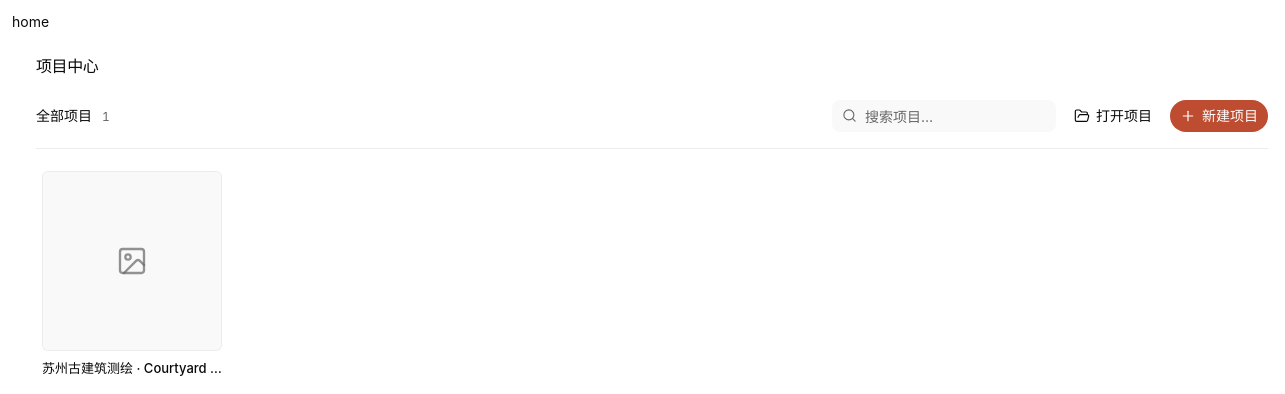
Test case: HomePage › retains complete long macOS project metadata in gallery descriptions
Expected: the text titled "苏州古建筑测绘 · Courtyard reconstruction final high quality 2026-10-28" is shown, [42,359,222,378]
Click the button "苏州古建筑测绘 · Courtyard reconstruction final high quality 2026-10-28": [132, 274] box [42,171,222,378]
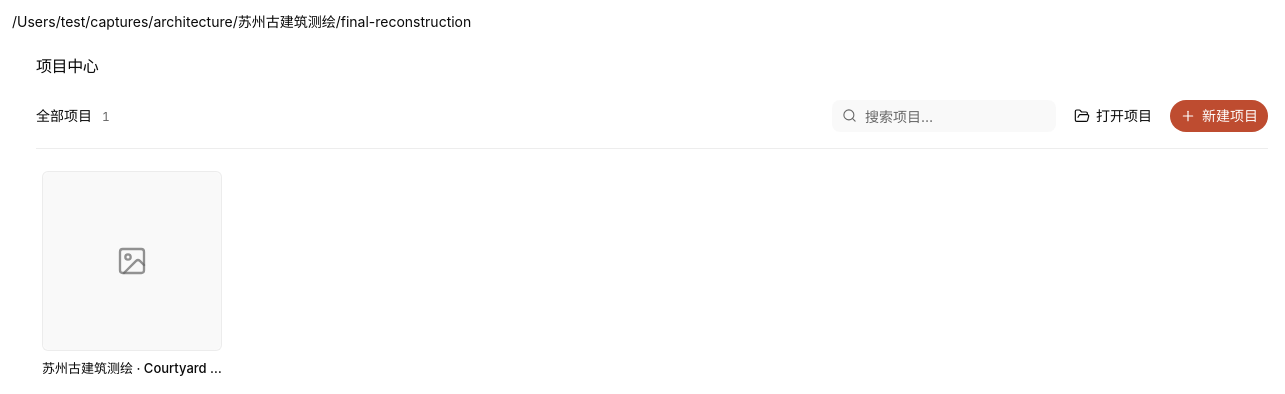
Expected: the text with test id "destination" reads "/Users/test/captures/architecture/苏州古建筑测绘/final-reconstruction", [12,13,471,30]
